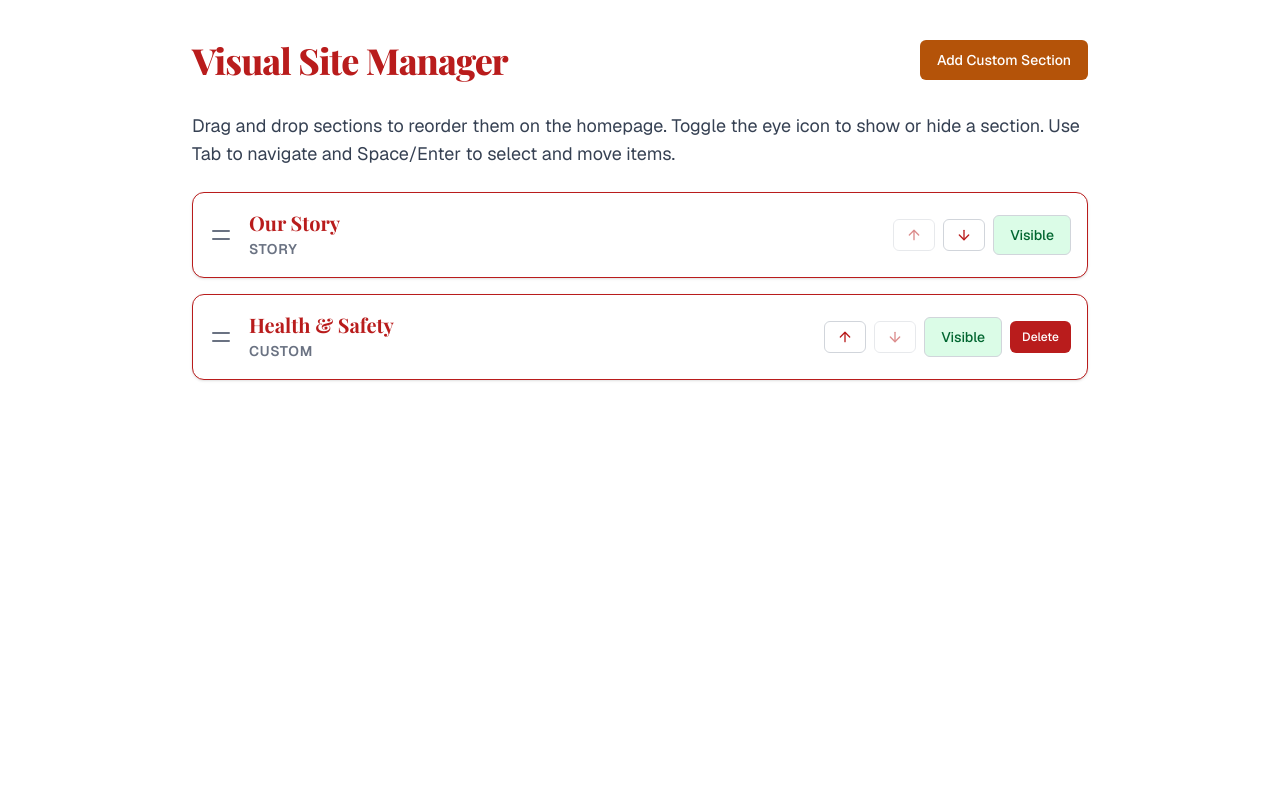
SiteManagerPage and DragDropContainer › renders Delete button for custom sections and opens confirmation modal on click
Click the button with aria-label "Delete Health & Safety". click: click(1041, 337)
box: [1010,321,1071,353]
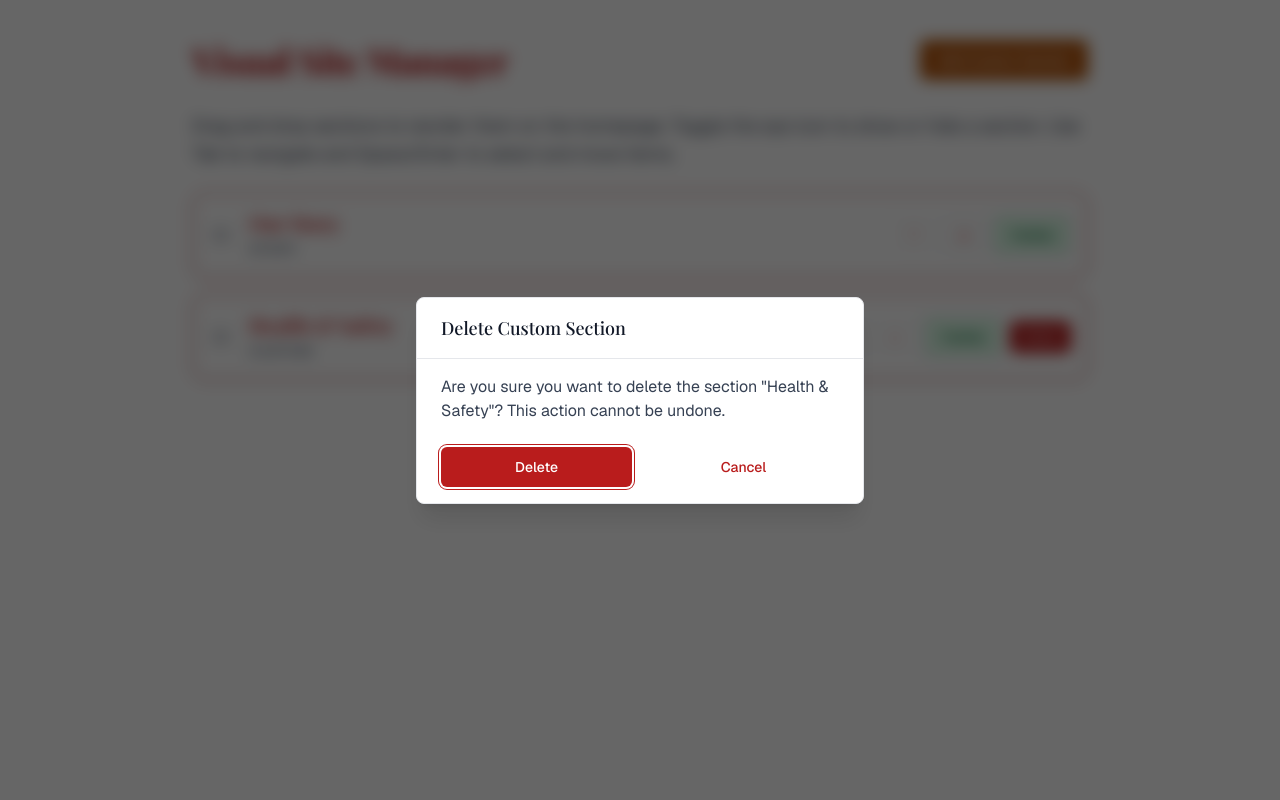
Expected: the heading "Delete Custom Section" is shown, [441,316,626,340]
